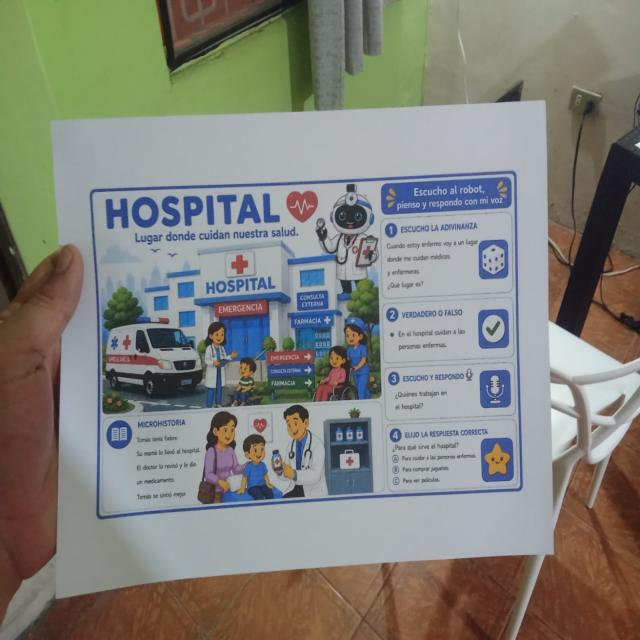hospital: (87, 167, 526, 524)
